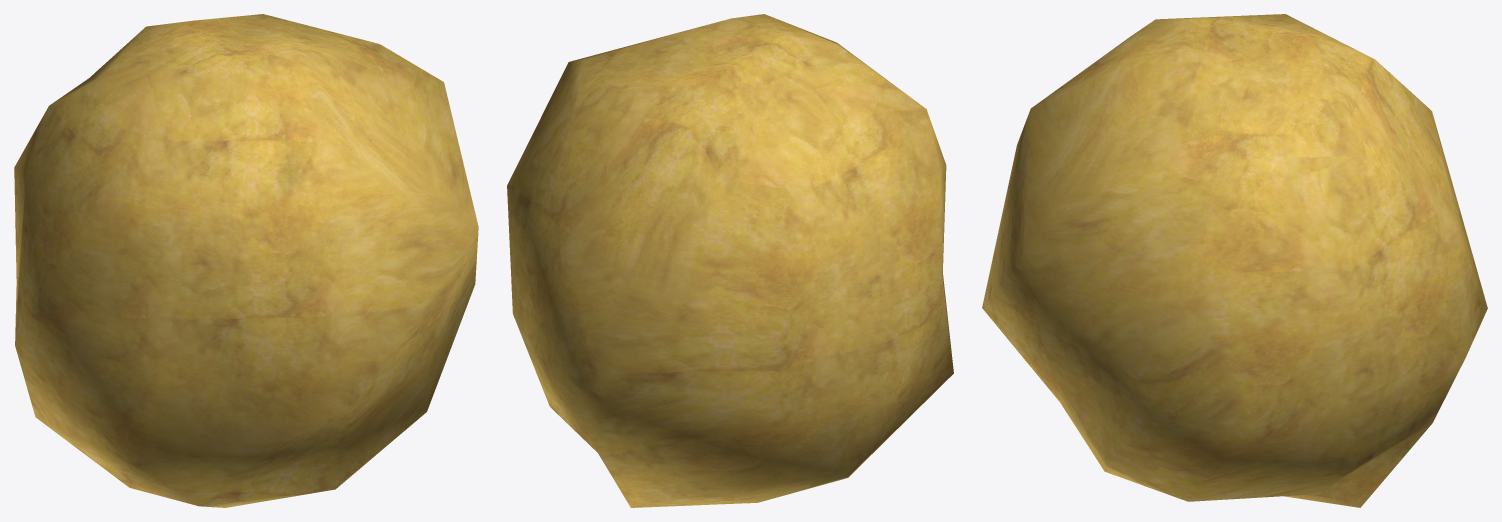
The model's file is Ganmo.fbx.
3 renders of one model, left to right at view 1: azimuth 30°, elevation 25°; view 2: azimuth 150°, elevation 25°; view 3: azimuth 270°, elevation 25°, orthographic. The views are drawn at different scales.
Visible parts, largest first — view 1: 球; view 2: 球; view 3: 球.
Boxes of the visible parts, left/top/right/bottom form: 球: left=14, top=14, right=478, bottom=507; 球: left=507, top=14, right=953, bottom=507; 球: left=982, top=14, right=1487, bottom=507.
Size of the model in its own units: 214 by 215 by 219.
